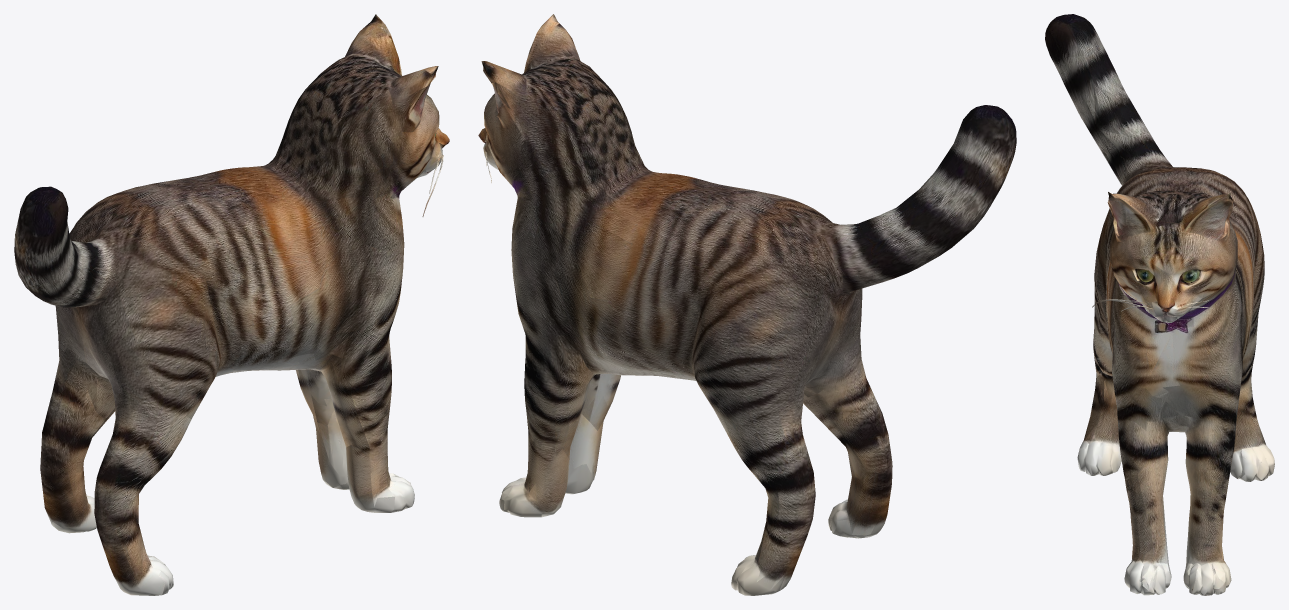
The model's file is DIDGACAT.glb.
The picture shows the model from 3 angles, left to right: view 1: azimuth 30°, elevation 25°; view 2: azimuth 150°, elevation 25°; view 3: azimuth 270°, elevation 25°; orthographic projection. The views are drawn at different scales.
Parts seen in each view (by area): view 1: fit; view 2: fit; view 3: fit.
Part boxes in pixels (x1,y1,x2,y2): fit: (14,14,449,595); fit: (478,14,1016,595); fit: (1045,14,1274,595).
Bounding box in the file's own units: 1.11 × 1 × 0.5091.
Materials: 1 (1 with a texture image).
